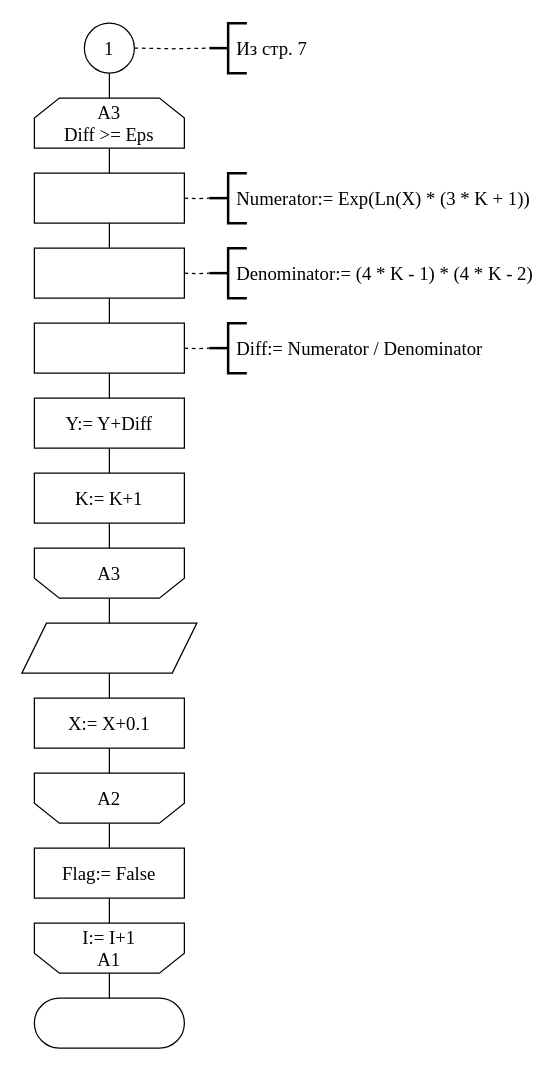
Some shapes in this 556 by 1070 pixel diagram are drawn without their labels. The centre of each missing label's shape, as x and y in pixels:
"Вывод X, K, Y" goes at point 109,647.
"Выход" goes at point 108,1022.
